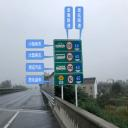speed_limit_100: (65, 62, 74, 73), (66, 51, 74, 62)
speed_limit_120: (66, 40, 73, 50)
speed_limit_80: (67, 74, 74, 84)
